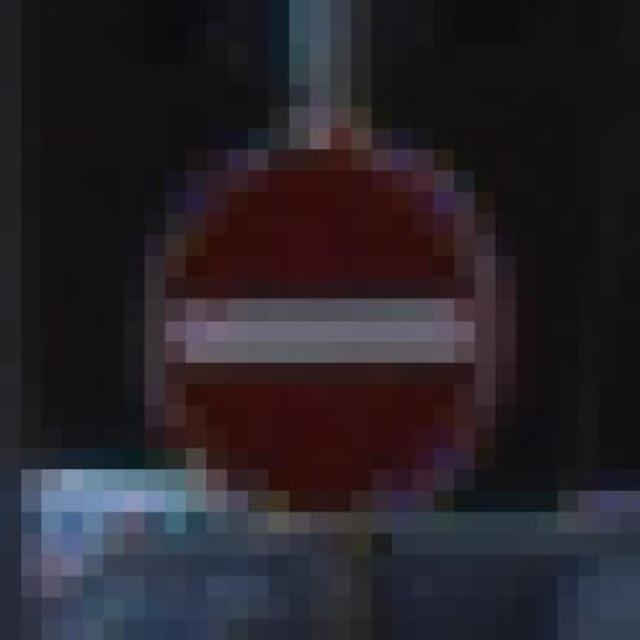No Entry: (83, 106, 537, 534)
